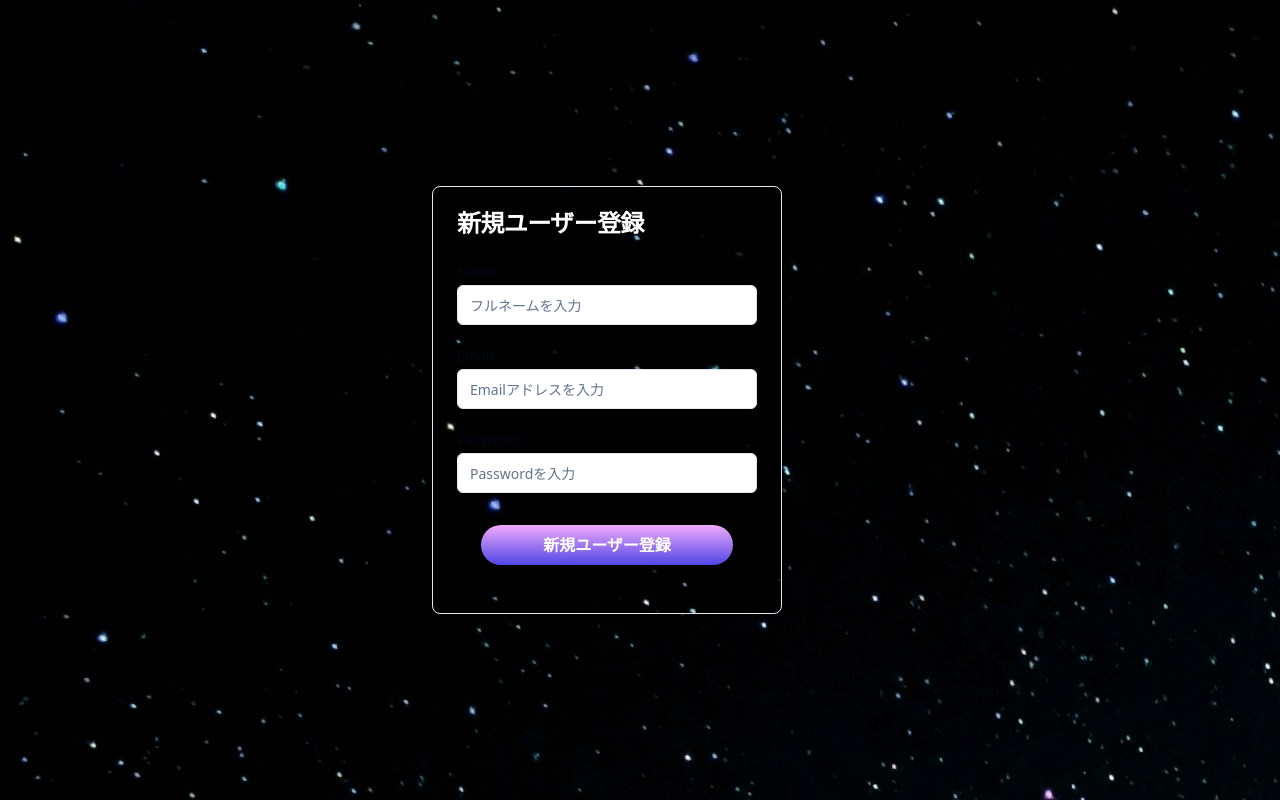
Scenario: LoginPage › 名前が未入力の場合にエラーメッセージが表示されること
Step 1. Click the button with test id "submit" → (607, 545), box 481,525 -> 733,565
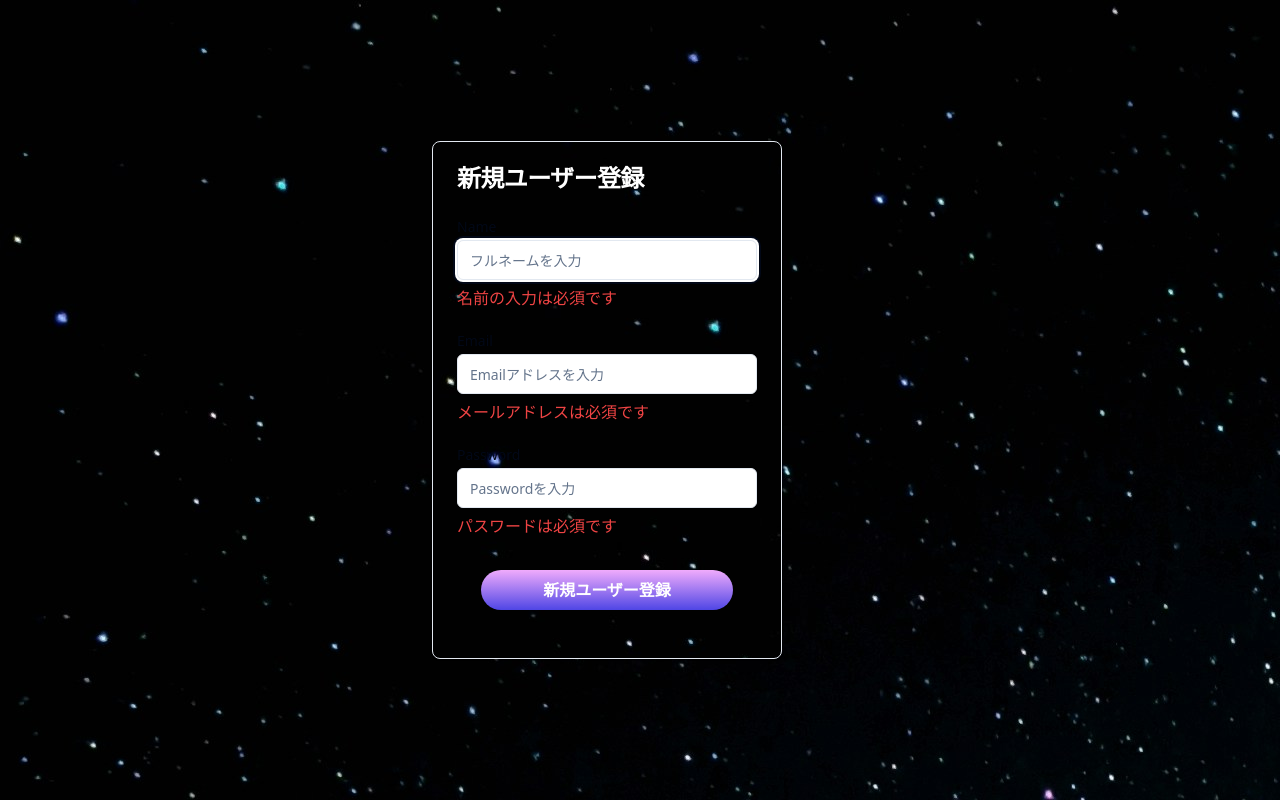
Check: the text "名前の入力は必須です" is shown, box 457,287 -> 617,309
